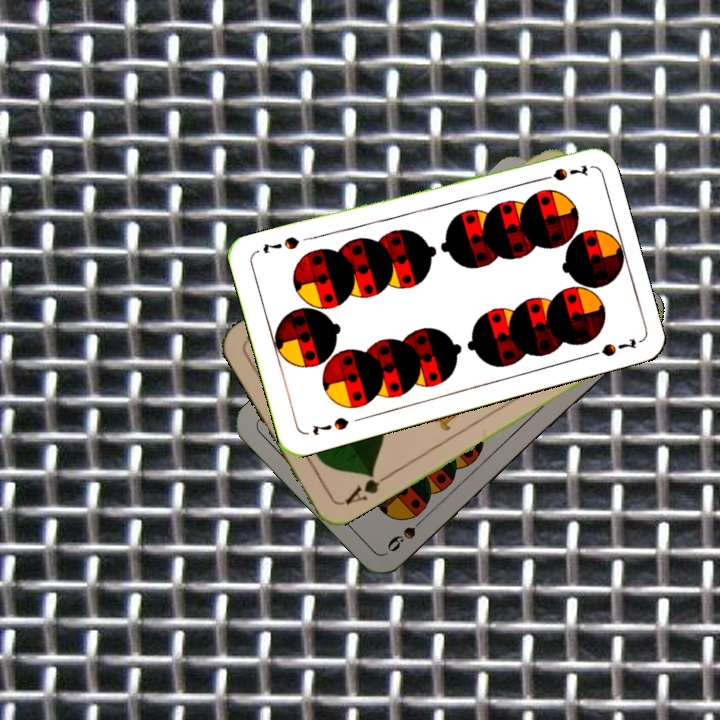GA: (338, 467, 392, 508)
S7: (532, 160, 590, 184), (308, 413, 351, 438)
S9: (383, 510, 431, 555)
